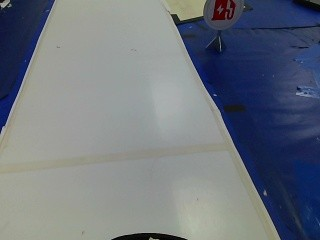battery: (198, 0, 244, 28)
